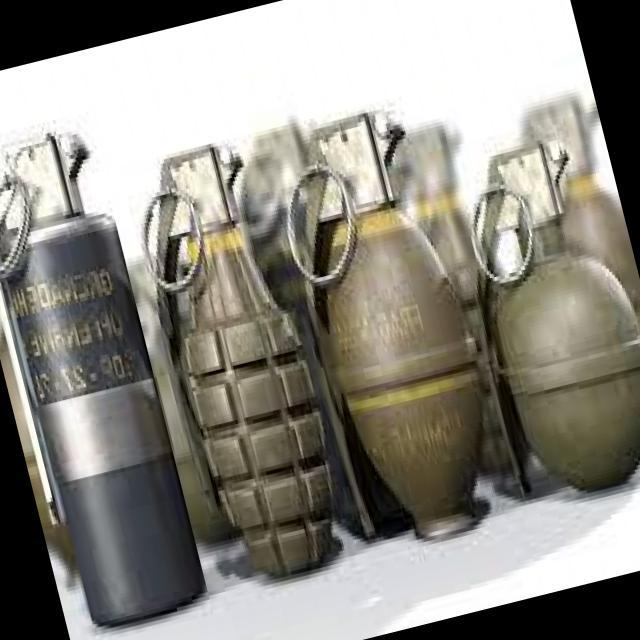grenade: (255, 92, 520, 562), (0, 119, 213, 638), (110, 118, 349, 563), (445, 115, 640, 504)
